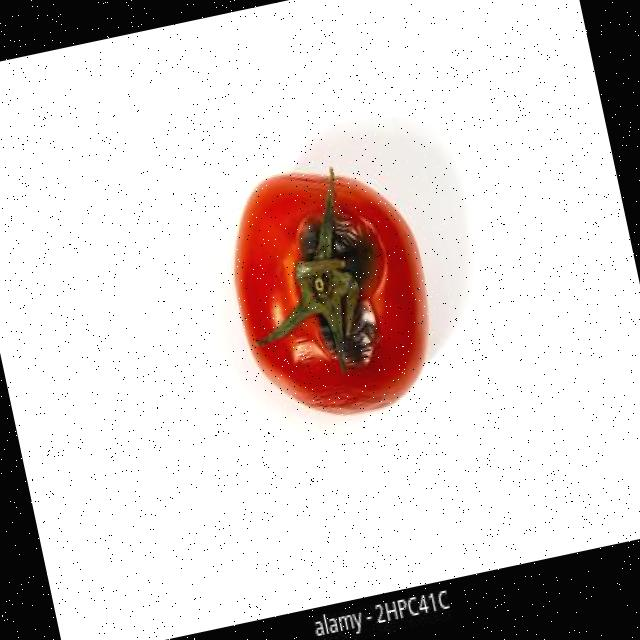overripe: (212, 141, 454, 430)
